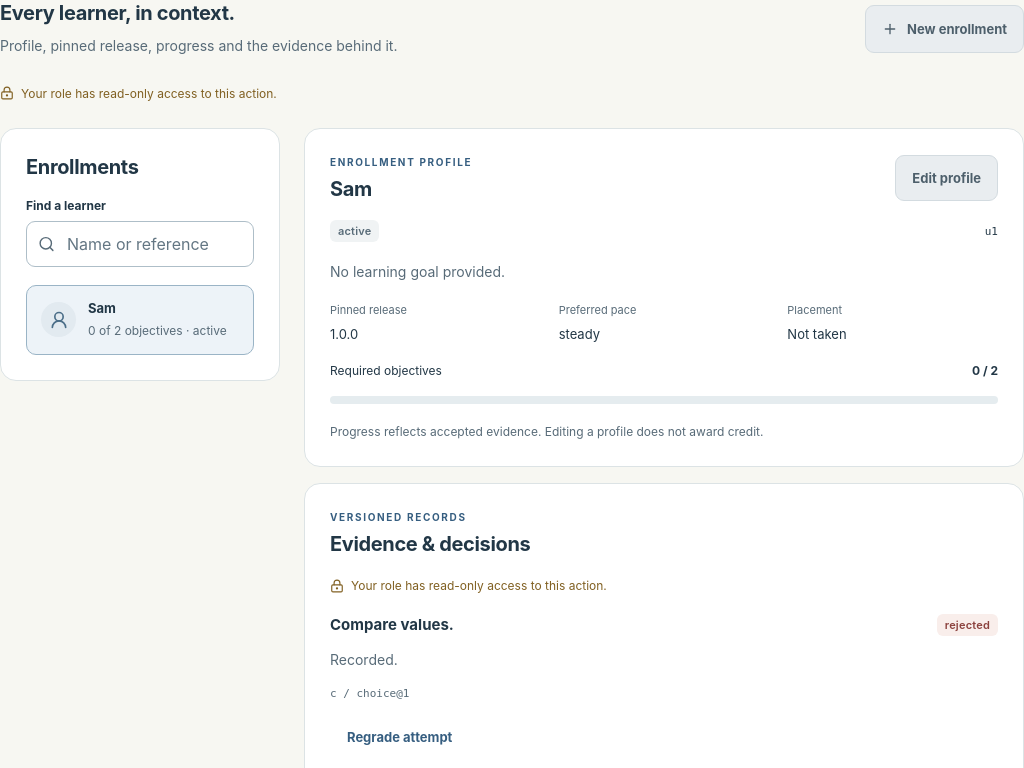
Test: scoped regrade of one attempt (U07) › offers the action only with evidence.regrade on evidence that is still in force
Click the button with aria-label "Regrade the attempt behind: Compare values.": point(400, 737) top-left (330, 714), bottom-right (469, 760)
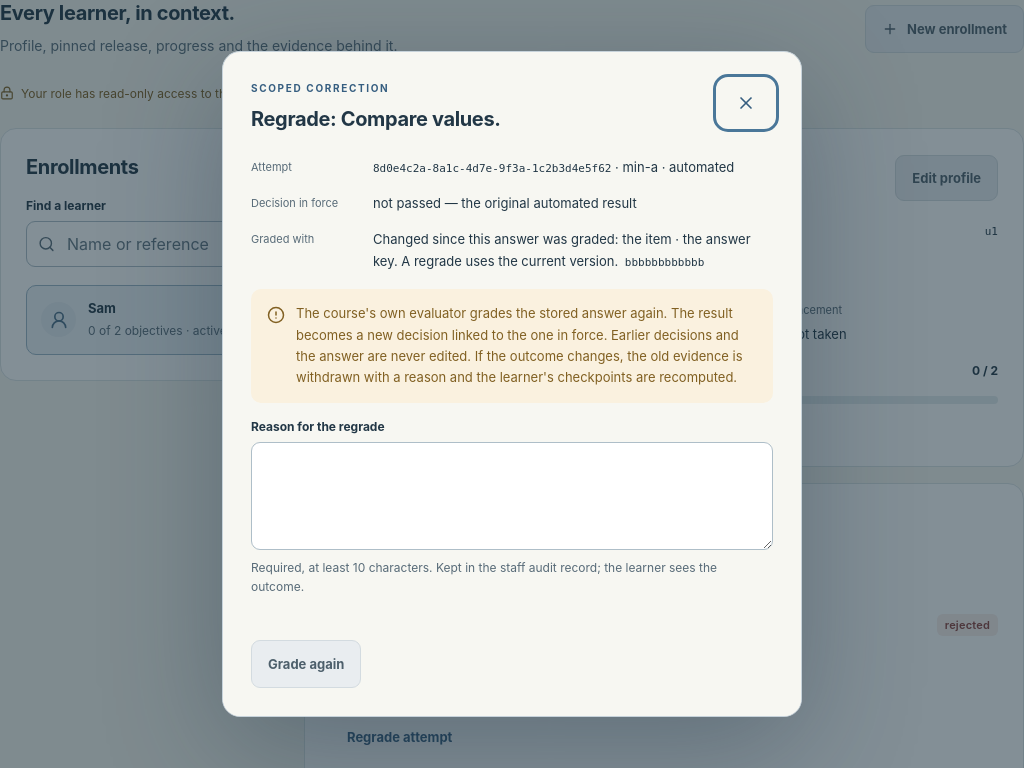
Now the dialog "Regrade: Compare values." is shown, box top-left (222, 51), bottom-right (802, 717)
